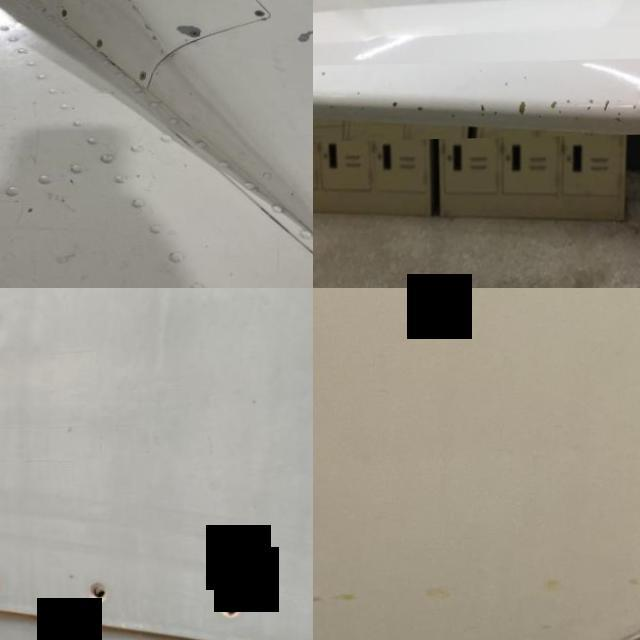Crack: (313, 59, 640, 144)
Missing_Fastener: (205, 578, 261, 634), (74, 566, 125, 618), (0, 560, 14, 604)
